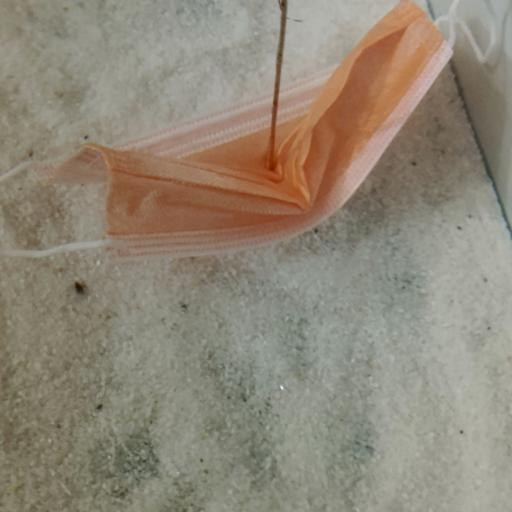mask: (3, 0, 502, 258)
